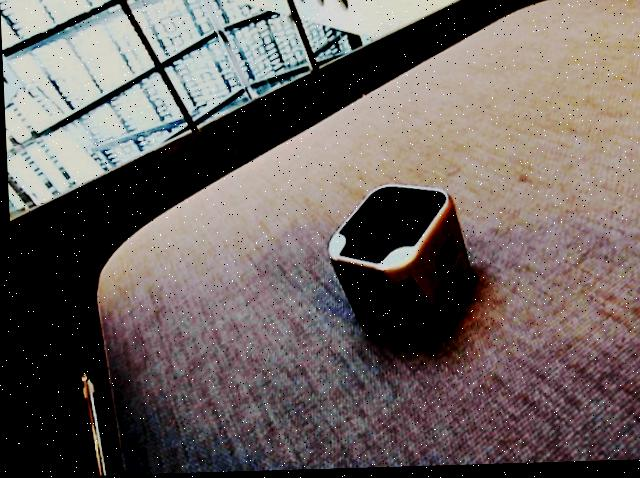adapter: (322, 182, 469, 346)
